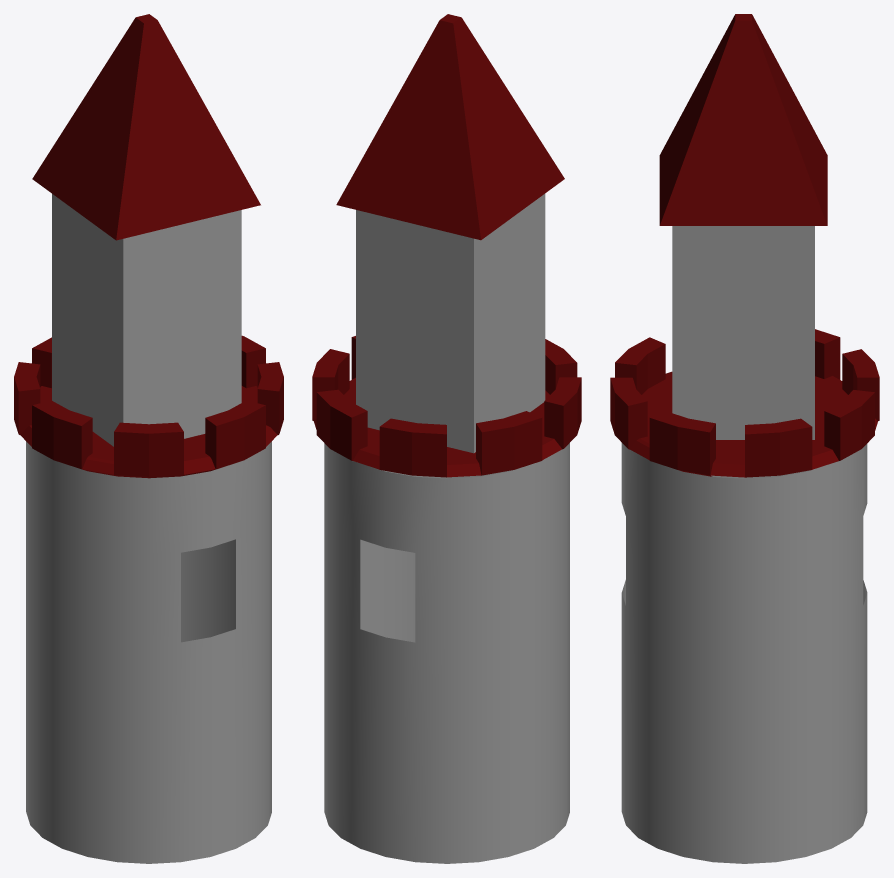
File: Fort tower.fbx
3 views of the same model, side by side, from view 1: azimuth 30°, elevation 25°; view 2: azimuth 150°, elevation 25°; view 3: azimuth 270°, elevation 25° (orthographic).
Visible parts, largest first — view 1: castle_Cylinder07, pasted__pCube1, pCube1; view 2: castle_Cylinder07, pasted__pCube1, pCube1; view 3: castle_Cylinder07, pasted__pCube1, pCube1.
Boxes of the visible parts, <box> form: castle_Cylinder07: <box>14,335,283,863</box>; pasted__pCube1: <box>52,194,241,446</box>; pCube1: <box>32,14,260,240</box>; castle_Cylinder07: <box>312,336,581,863</box>; pasted__pCube1: <box>356,193,545,453</box>; pCube1: <box>336,14,564,240</box>; castle_Cylinder07: <box>610,329,879,863</box>; pasted__pCube1: <box>672,226,814,439</box>; pCube1: <box>659,14,827,225</box>.
Bounding box in the file's own units: 1.97 × 6.39 × 1.97.
